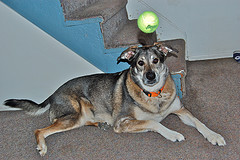tennis ball: (136, 10, 159, 33)
